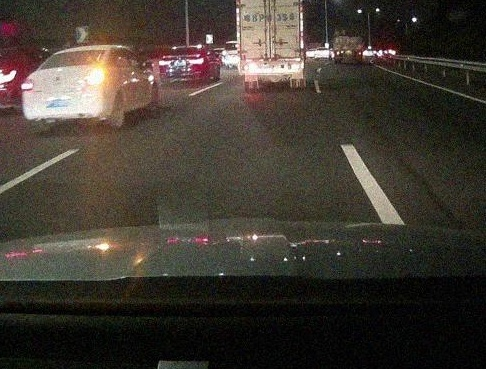L_light: (21, 81, 34, 90), (159, 61, 171, 66), (243, 63, 250, 70)
R_light: (82, 72, 102, 82), (189, 59, 202, 64), (291, 64, 297, 70)
T_light: (264, 1, 276, 5), (78, 49, 89, 52), (182, 46, 190, 48)
night-no: (235, 0, 305, 94), (159, 45, 205, 88)
night-right: (21, 45, 113, 130)
